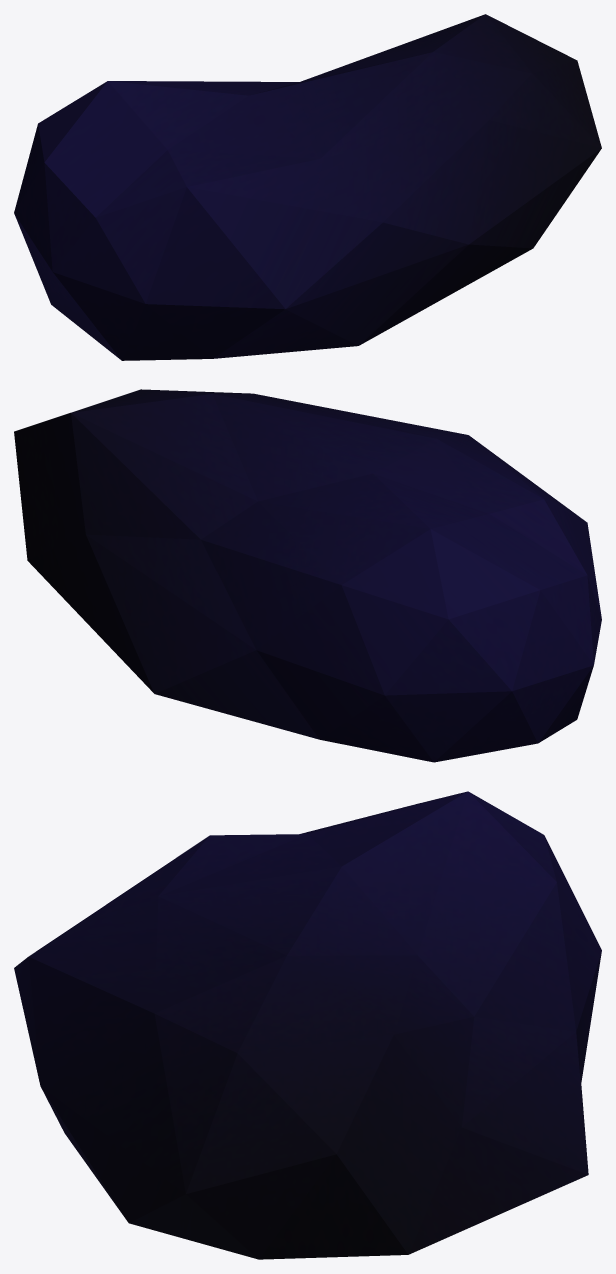
The model's file is SM_Rock07_Var2.fbx.
The picture shows the model from 3 angles, top to bottom: view 1: azimuth 30°, elevation 25°; view 2: azimuth 150°, elevation 25°; view 3: azimuth 270°, elevation 25°; orthographic projection. The views are drawn at different scales.
Parts seen in each view (by area): view 1: MediumRock01.002; view 2: MediumRock01.002; view 3: MediumRock01.002.
Boxes of the visible parts, left/top/right/bottom form: MediumRock01.002: left=14, top=14, right=601, bottom=360; MediumRock01.002: left=14, top=389, right=601, bottom=762; MediumRock01.002: left=14, top=791, right=601, bottom=1259.
Bounding box in the file's own units: 345 × 141 × 236.
